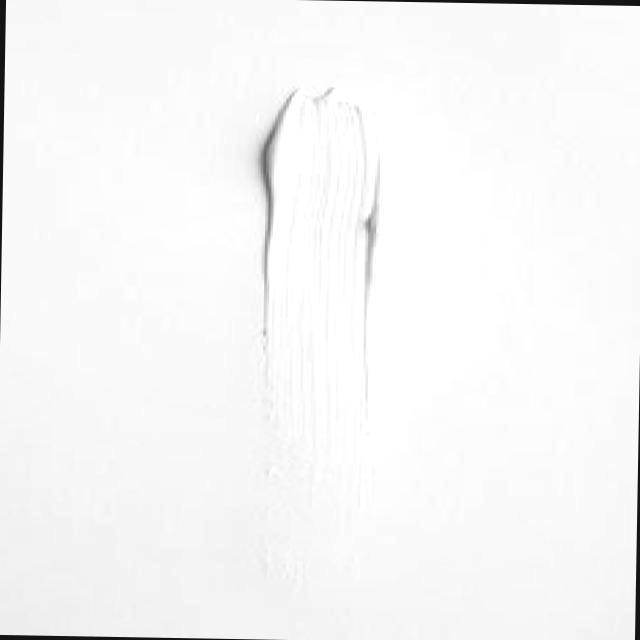paint drips: (225, 63, 430, 380)
